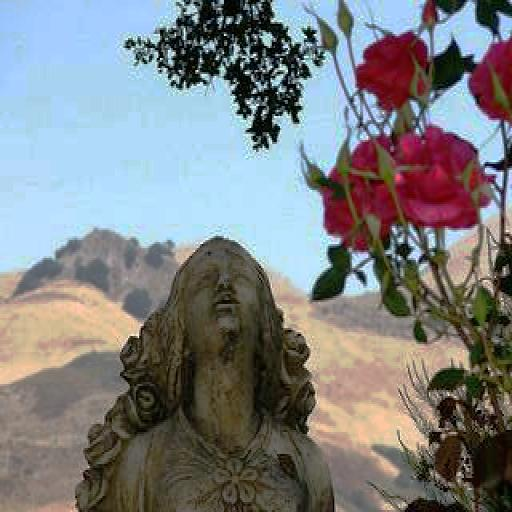rose: (397, 128, 486, 230), (355, 32, 434, 100)
